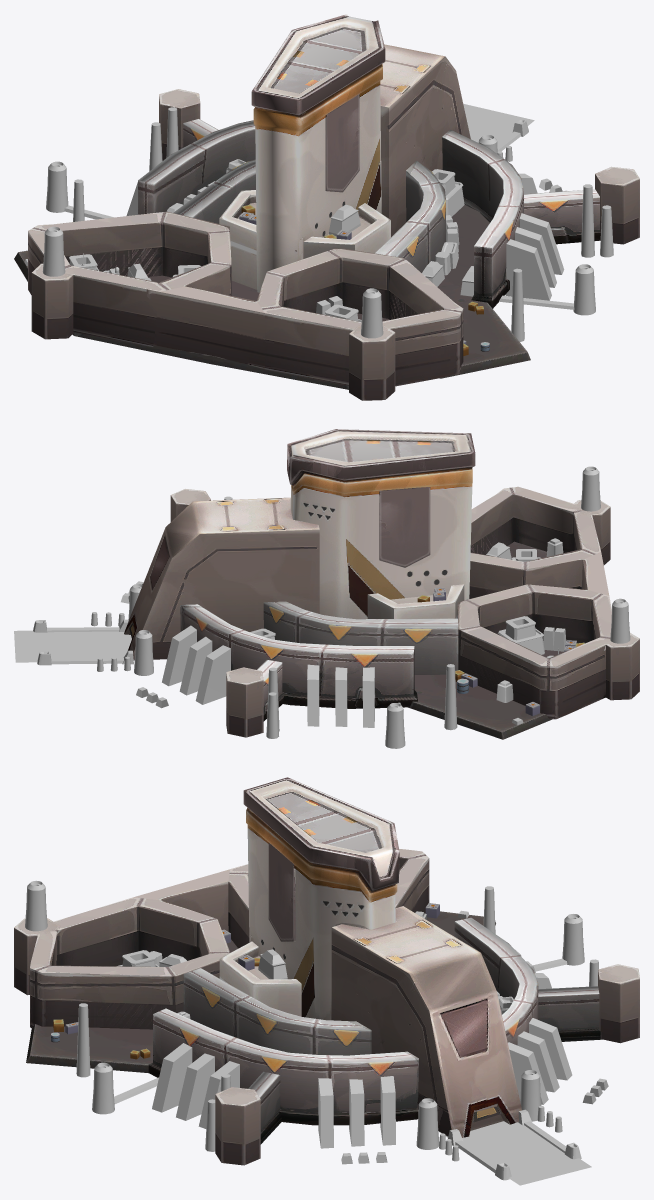
Rendered from ConquestOutpost.fbx.
3 views of the same model, one above another, from view 1: azimuth 30°, elevation 25°; view 2: azimuth 150°, elevation 25°; view 3: azimuth 270°, elevation 25° (orthographic). The views are drawn at different scales.
Parts seen in each view (by area): view 1: ConquestOutpost; view 2: ConquestOutpost; view 3: ConquestOutpost.
Part boxes in pixels (<box>): ConquestOutpost: <box>14,14,639,400</box>; ConquestOutpost: <box>14,429,639,748</box>; ConquestOutpost: <box>14,777,639,1185</box>.
Size of the model in its own units: 40.88 by 36.9 by 14.92.
